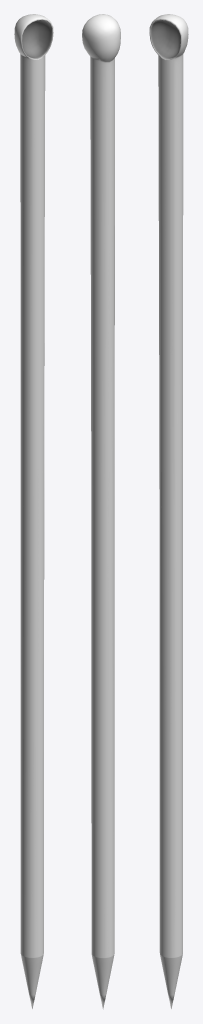
File: Spatula_Needle.fbx
The picture shows the model from 3 angles, left to right: view 1: azimuth 30°, elevation 25°; view 2: azimuth 210°, elevation 25°; view 3: azimuth 330°, elevation 25°; orthographic projection.
Parts seen in each view (by area): view 1: Spatula_Needle_LOD0; view 2: Spatula_Needle_LOD0; view 3: Spatula_Needle_LOD0.
Boxes of the visible parts, x1=… form: Spatula_Needle_LOD0: x1=14, y1=14, x2=53, y2=1008; Spatula_Needle_LOD0: x1=82, y1=14, x2=120, y2=1009; Spatula_Needle_LOD0: x1=149, y1=14, x2=188, y2=1008.
Size of what is drawn, in the model's own units: 0.7764 by 22.06 by 0.5978.
